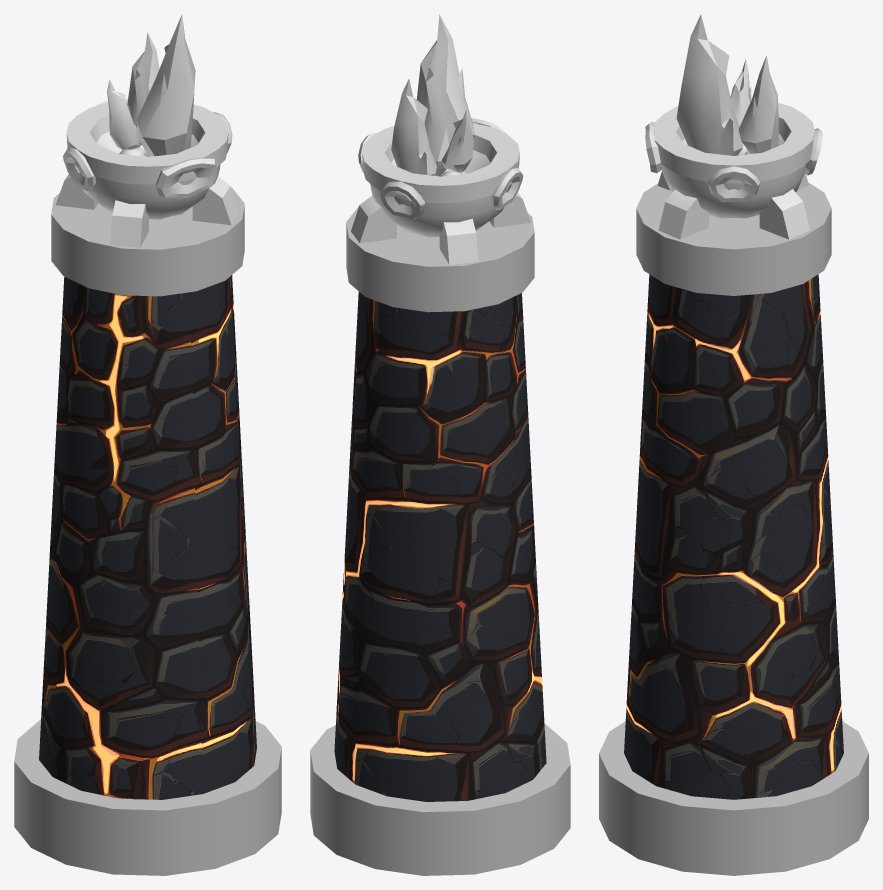
File: testnewturret.fbx
The picture shows the model from 3 angles, left to right: view 1: azimuth 30°, elevation 25°; view 2: azimuth 150°, elevation 25°; view 3: azimuth 270°, elevation 25°; orthographic projection. The views are drawn at different scales.
Parts seen in each view (by area): view 1: Circle, Icosphere; view 2: Circle, Icosphere; view 3: Circle, Icosphere.
Boxes of the visible parts, left/top/right/bottom form: Circle: left=14, top=188, right=281, bottom=875; Icosphere: left=55, top=15, right=239, bottom=247; Circle: left=310, top=207, right=570, bottom=875; Icosphere: left=351, top=14, right=530, bottom=264; Circle: left=599, top=182, right=868, bottom=875; Icosphere: left=645, top=14, right=822, bottom=239.
Size of the model in its own units: 131 by 435 by 131.
